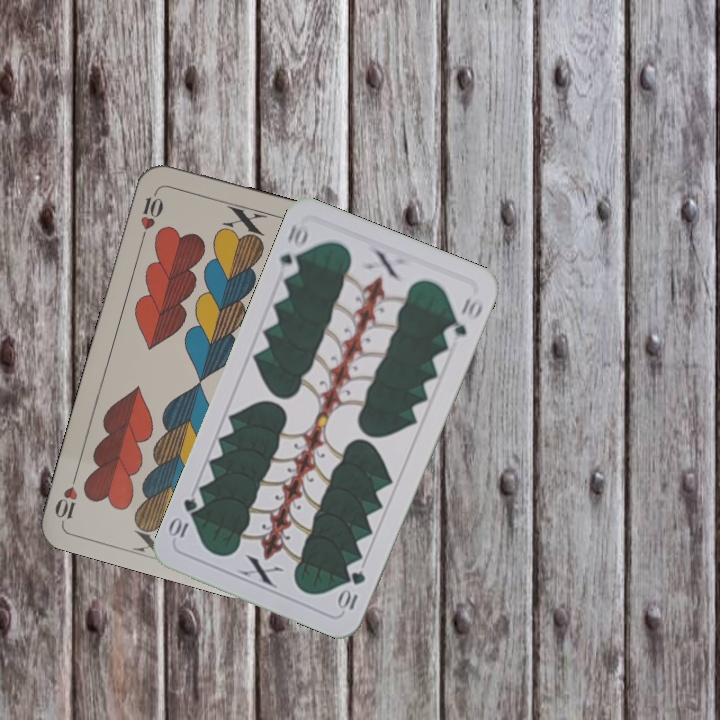G10: (275, 220, 311, 280), (335, 566, 368, 612)
H10: (136, 186, 166, 244)
